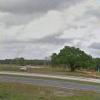Tree: (39, 30, 100, 79)
